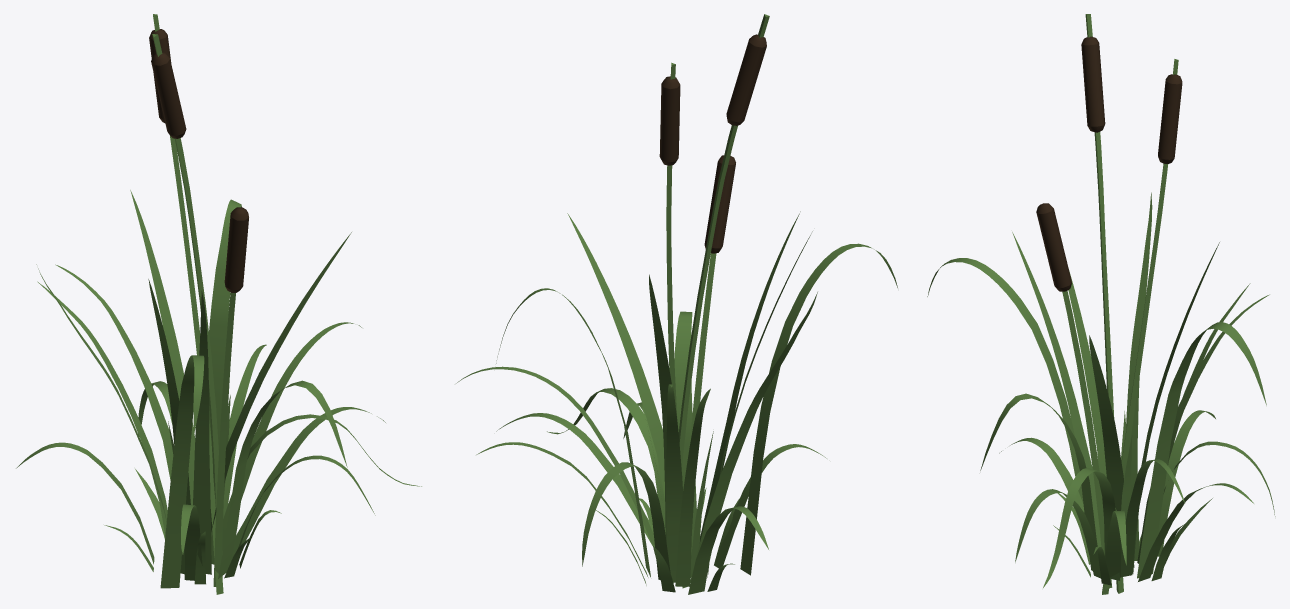
The model's file is plant_cattail_E.fbx.
3 views of the same model, side by side, from view 1: azimuth 30°, elevation 25°; view 2: azimuth 150°, elevation 25°; view 3: azimuth 270°, elevation 25° (orthographic). The views are drawn at different scales.
Visible parts, largest first — view 1: plant_cattail_E_leaf_F, plant_cattail_E_leaf_E, plant_cattail_E_leaf_G, plant_cattail_E_leaf_K, plant_cattail_E_twig_A, plant_cattail_E_twig_C, plant_cattail_E_leaf_B, plant_cattail_E_twig_B, plant_cattail_E_leaf_A, plant_cattail_E_flower_A, plant_cattail_E_leaf_N, plant_cattail_E_leaf_T (+10 smaller); view 2: plant_cattail_E_leaf_F, plant_cattail_E_leaf_A, plant_cattail_E_leaf_I, plant_cattail_E_twig_A, plant_cattail_E_leaf_J, plant_cattail_E_leaf_C, plant_cattail_E_leaf_K, plant_cattail_E_leaf_M, plant_cattail_E_flower_A, plant_cattail_E_flower_B, plant_cattail_E_leaf_E, plant_cattail_E_leaf_B (+10 smaller); view 3: plant_cattail_E_leaf_G, plant_cattail_E_leaf_F, plant_cattail_E_leaf_C, plant_cattail_E_leaf_E, plant_cattail_E_leaf_A, plant_cattail_E_twig_A, plant_cattail_E_twig_B, plant_cattail_E_flower_A, plant_cattail_E_leaf_P, plant_cattail_E_twig_C, plant_cattail_E_leaf_D, plant_cattail_E_flower_C (+12 smaller).
Boxes of the visible parts, x1,y1,x2,y2 form: plant_cattail_E_leaf_F: [160, 355, 204, 588]; plant_cattail_E_leaf_E: [193, 291, 211, 574]; plant_cattail_E_leaf_G: [209, 199, 241, 449]; plant_cattail_E_leaf_K: [218, 380, 347, 578]; plant_cattail_E_twig_A: [152, 34, 222, 577]; plant_cattail_E_twig_C: [213, 293, 235, 586]; plant_cattail_E_leaf_B: [130, 190, 195, 505]; plant_cattail_E_twig_B: [153, 14, 223, 594]; plant_cattail_E_leaf_A: [210, 232, 351, 531]; plant_cattail_E_flower_A: [151, 52, 186, 138]; plant_cattail_E_leaf_N: [222, 322, 361, 553]; plant_cattail_E_leaf_T: [231, 407, 385, 559]; plant_cattail_E_leaf_F: [740, 243, 897, 575]; plant_cattail_E_leaf_A: [567, 213, 664, 499]; plant_cattail_E_leaf_I: [666, 384, 682, 582]; plant_cattail_E_twig_A: [673, 14, 769, 583]; plant_cattail_E_leaf_J: [675, 388, 710, 586]; plant_cattail_E_leaf_C: [690, 292, 817, 582]; plant_cattail_E_leaf_K: [674, 311, 696, 554]; plant_cattail_E_leaf_M: [582, 462, 670, 580]; plant_cattail_E_flower_A: [726, 34, 766, 125]; plant_cattail_E_flower_B: [659, 76, 680, 165]; plant_cattail_E_leaf_E: [700, 211, 800, 541]; plant_cattail_E_leaf_B: [649, 274, 671, 541]; plant_cattail_E_leaf_G: [1137, 322, 1266, 578]; plant_cattail_E_leaf_F: [927, 258, 1083, 502]; plant_cattail_E_leaf_C: [1126, 192, 1152, 560]; plant_cattail_E_leaf_E: [1012, 232, 1101, 546]; plant_cattail_E_leaf_A: [1089, 335, 1134, 567]; plant_cattail_E_twig_A: [1085, 14, 1123, 593]; plant_cattail_E_twig_B: [1102, 59, 1178, 594]; plant_cattail_E_flower_A: [1081, 36, 1105, 132]; plant_cattail_E_leaf_P: [1043, 468, 1119, 587]; plant_cattail_E_twig_C: [1062, 290, 1112, 588]; plant_cattail_E_leaf_D: [1068, 270, 1106, 477]; plant_cattail_E_flower_C: [1036, 203, 1071, 291].
Size of the model in its own units: 125 by 200 by 116.
